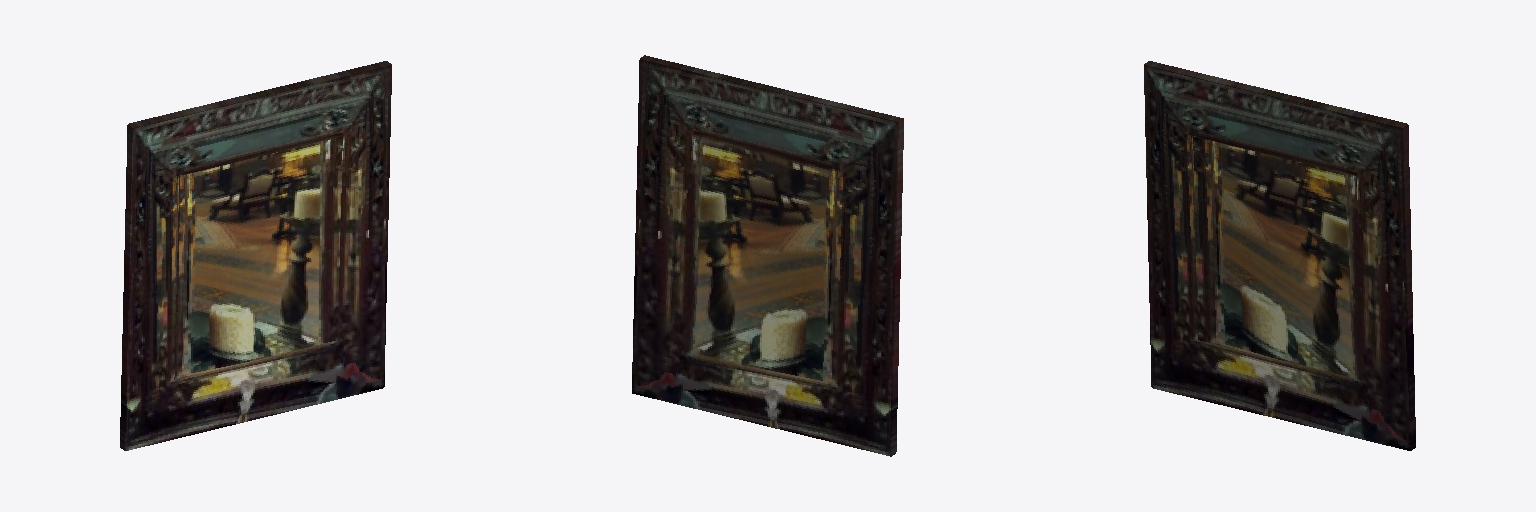
3 renders of one model, left to right at view 1: azimuth 30°, elevation 25°; view 2: azimuth 150°, elevation 25°; view 3: azimuth 330°, elevation 25°, orthographic.
Visible parts, largest first — view 1: Kitchen_GEO_GRP1_polySurface125_Window_Frame; view 2: Kitchen_GEO_GRP1_polySurface125_Window_Frame; view 3: Kitchen_GEO_GRP1_polySurface125_Window_Frame.
Boxes of the visible parts, box(x1,y1,x2,y2) form: Kitchen_GEO_GRP1_polySurface125_Window_Frame: box(120, 61, 391, 450); Kitchen_GEO_GRP1_polySurface125_Window_Frame: box(632, 55, 903, 456); Kitchen_GEO_GRP1_polySurface125_Window_Frame: box(1144, 61, 1415, 450).
Size of the model in its own units: 1.09 by 1.33 by 0.0952.
1 materials, 1 textured.